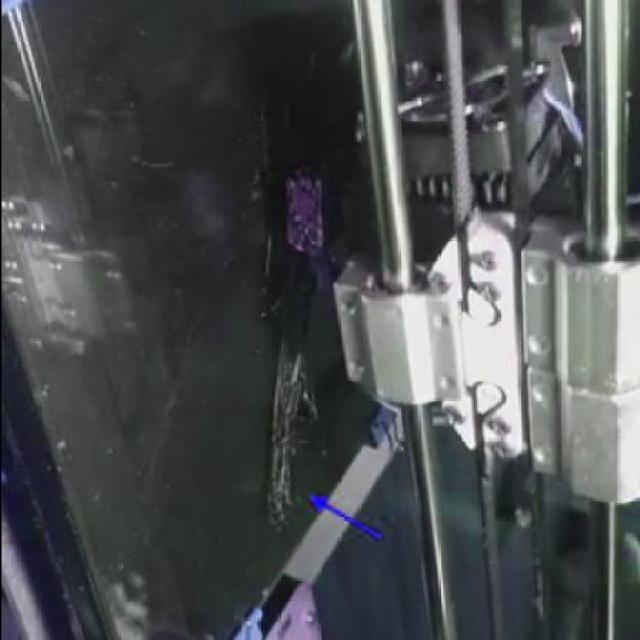spaghetti: (263, 497, 299, 536), (297, 386, 320, 432)
